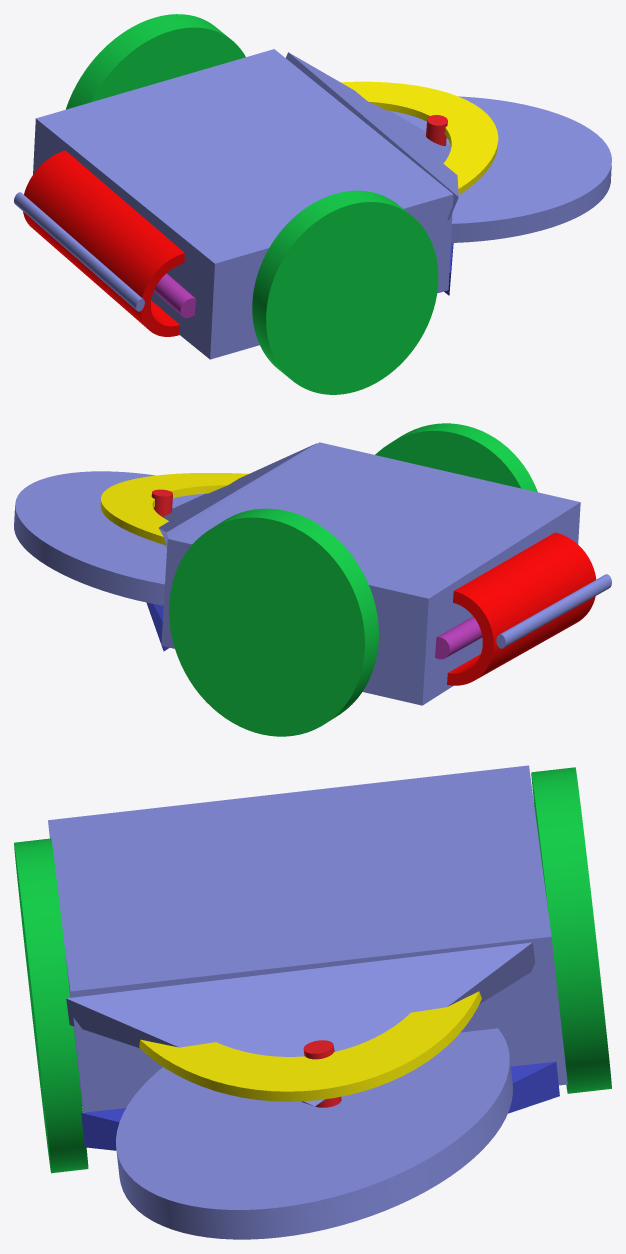
Rendered from supernova revised rough sketch.glb.
3 views of the same model, one above another, from view 1: azimuth 30°, elevation 25°; view 2: azimuth 150°, elevation 25°; view 3: azimuth 270°, elevation 25° (orthographic). The views are drawn at different scales.
Visible parts, largest first — view 1: node_id17, node_id8, node_id5, mesh_id91, node_id20, mesh_id62, node_id11, mesh_id97, mesh_id109, mesh_id64; view 2: node_id17, node_id20, node_id5, mesh_id91, node_id8, mesh_id62, node_id11, mesh_id97, mesh_id109, mesh_id64; view 3: node_id17, node_id5, node_id11, node_id20, mesh_id62, node_id8, node_id14, mesh_id64.
Part boxes in pixels (box(x1,y1,x2,y2)): node_id17: box(33, 49, 453, 359); node_id8: box(252, 190, 438, 394); node_id5: box(390, 96, 611, 242); mesh_id91: box(23, 150, 184, 336); node_id20: box(66, 14, 245, 109); mesh_id62: box(341, 81, 498, 194); node_id11: box(286, 52, 458, 220); mesh_id97: box(14, 192, 144, 311); mesh_id109: box(154, 273, 195, 317); mesh_id64: box(426, 115, 447, 145); node_id17: box(161, 442, 580, 705); node_id20: box(169, 508, 378, 736); node_id5: box(14, 471, 204, 605); mesh_id91: box(447, 532, 596, 685); node_id8: box(375, 423, 537, 492); mesh_id62: box(100, 473, 248, 545); node_id11: box(159, 443, 317, 547); mesh_id97: box(496, 574, 611, 648); mesh_id109: box(435, 616, 482, 659); mesh_id64: box(151, 489, 172, 516); node_id17: box(48, 765, 567, 1112); node_id5: box(116, 1028, 512, 1239); node_id11: box(66, 942, 535, 1106); node_id20: box(531, 767, 611, 1093); mesh_id62: box(139, 991, 481, 1101); node_id8: box(14, 838, 88, 1173); node_id14: box(81, 1061, 559, 1150); mesh_id64: box(303, 1040, 341, 1107).
Size of the model in its own units: 0.5163 by 0.2338 by 0.347.
12 materials, 8 textured.
